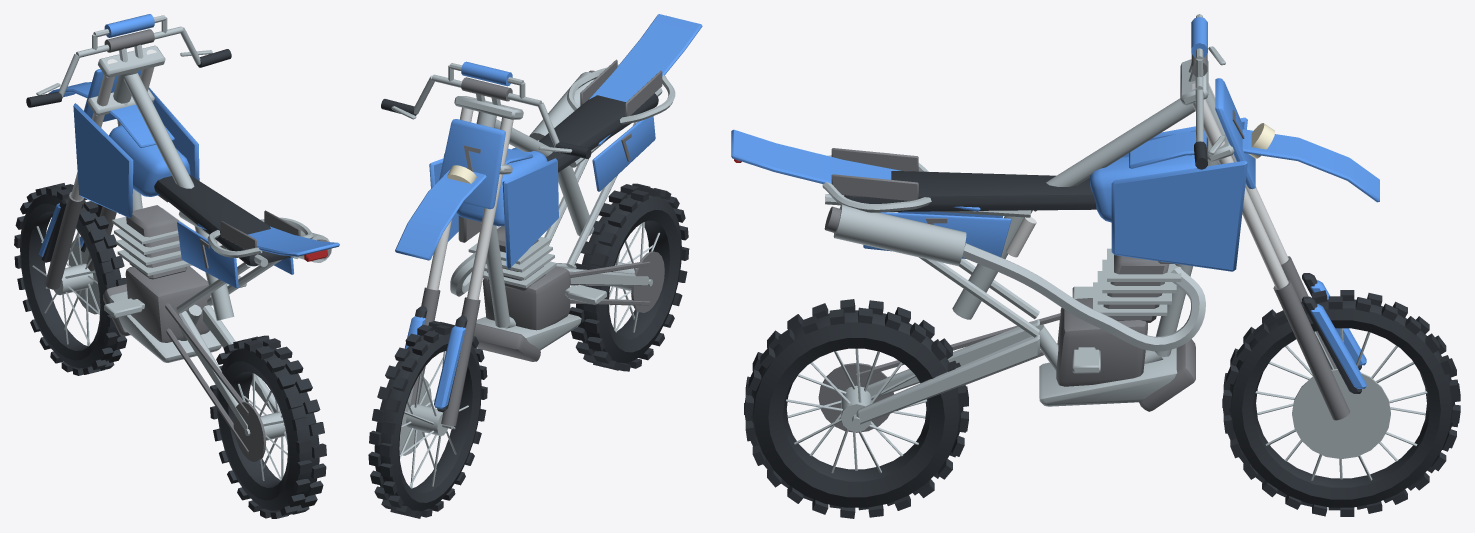
Rendered from StuntBike.fbx.
The picture shows the model from 3 angles, left to right: view 1: azimuth 30°, elevation 25°; view 2: azimuth 150°, elevation 25°; view 3: azimuth 270°, elevation 25°; orthographic projection. The views are drawn at different scales.
Parts seen in each view (by area): view 1: Body__metal, WheelRear__rubber, Body__paint, WheelFront__rubber, Body__engine, Body__rubber, Front__metal, Front__paint, Front__engine, WheelFront__metal, Front__rubber, WheelRear__metal (+2 smaller); view 2: Body__metal, Body__paint, WheelRear__rubber, WheelFront__rubber, Front__paint, Body__engine, Body__rubber, Front__engine, Front__metal, WheelFront__metal, Front__chrome, WheelRear__engine (+3 smaller); view 3: Body__metal, WheelRear__rubber, Body__paint, WheelFront__rubber, Body__engine, Front__paint, WheelFront__metal, Body__rubber, Front__engine, WheelRear__metal, Front__chrome, Front__metal (+2 smaller).
Boxes of the visible parts, left/top/right/bottom form: Body__metal: left=104, top=71, right=329, bottom=435; WheelRear__rubber: left=210, top=335, right=326, bottom=518; Body__paint: left=73, top=87, right=339, bottom=288; WheelFront__rubber: left=14, top=183, right=126, bottom=375; Body__engine: left=103, top=195, right=331, bottom=453; Body__rubber: left=154, top=174, right=291, bottom=266; Front__metal: left=36, top=15, right=212, bottom=115; Front__paint: left=39, top=14, right=174, bottom=256; Front__engine: left=45, top=29, right=154, bottom=289; WheelFront__metal: left=32, top=226, right=100, bottom=346; Front__rubber: left=26, top=49, right=231, bottom=262; WheelRear__metal: left=238, top=373, right=287, bottom=480; Body__metal: left=450, top=64, right=675, bottom=350; Body__paint: left=429, top=14, right=702, bottom=268; WheelRear__rubber: left=569, top=183, right=689, bottom=371; WheelFront__rubber: left=368, top=321, right=487, bottom=518; Front__paint: left=395, top=61, right=533, bottom=409; Body__engine: left=458, top=59, right=662, bottom=361; Body__rubber: left=539, top=93, right=658, bottom=172; Front__engine: left=410, top=77, right=512, bottom=426; Front__metal: left=391, top=63, right=572, bottom=428; WheelFront__metal: left=399, top=351, right=468, bottom=488; Front__chrome: left=427, top=96, right=514, bottom=300; WheelRear__engine: left=631, top=251, right=664, bottom=312; Body__metal: left=822, top=85, right=1224, bottom=425; WheelRear__rubber: left=744, top=299, right=968, bottom=518; Body__paint: left=731, top=117, right=1247, bottom=271; WheelFront__rubber: left=1222, top=290, right=1460, bottom=516; Body__engine: left=824, top=148, right=1195, bottom=420; Front__paint: left=1129, top=17, right=1379, bottom=388; WheelFront__metal: left=1255, top=328, right=1427, bottom=480; Body__rubber: left=840, top=171, right=1096, bottom=211; Front__engine: left=1191, top=54, right=1350, bottom=420; WheelRear__metal: left=786, top=348, right=926, bottom=473; Front__chrome: left=1192, top=83, right=1288, bottom=288; Front__metal: left=1180, top=14, right=1345, bottom=421.
Size of the model in its own units: 0.9221 by 1.71 by 2.35.
